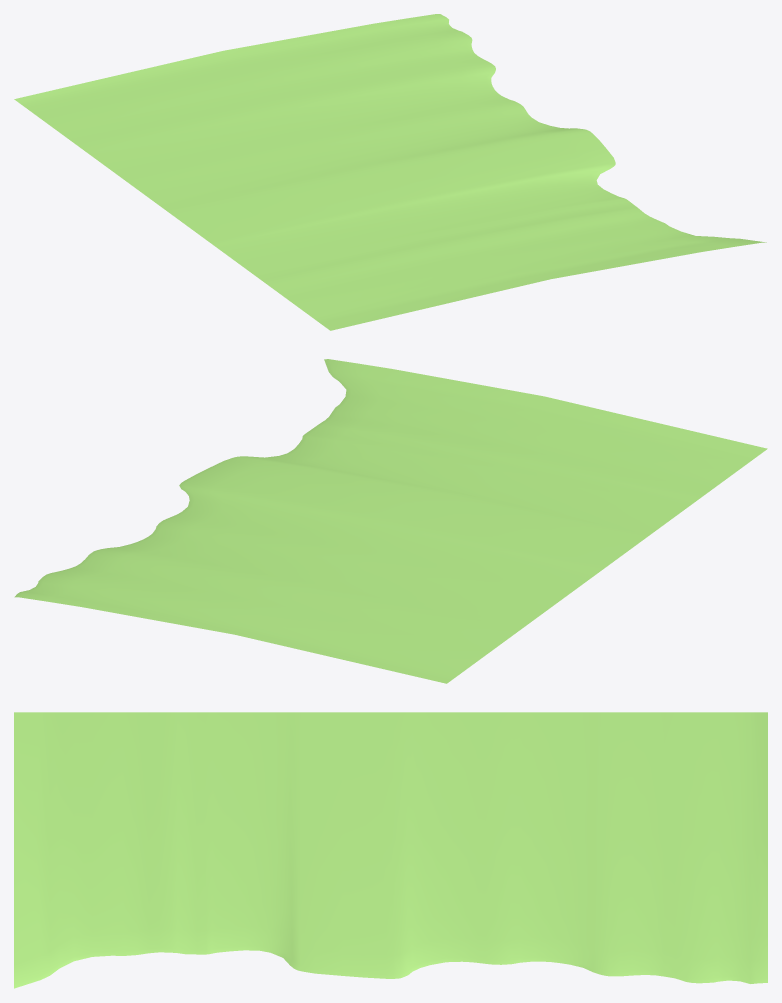
The model's file is Left_bank.FBX.
3 views of the same model, one above another, from view 1: azimuth 30°, elevation 25°; view 2: azimuth 150°, elevation 25°; view 3: azimuth 270°, elevation 25° (orthographic). The views are drawn at different scales.
Visible parts, largest first — view 1: Left_bank; view 2: Left_bank; view 3: Left_bank.
Part boxes in pixels (<box>): Left_bank: <box>14,14,766,330</box>; Left_bank: <box>14,359,767,683</box>; Left_bank: <box>14,712,767,988</box>.
Size of the model in its own units: 409 by 512 by 17.3.
